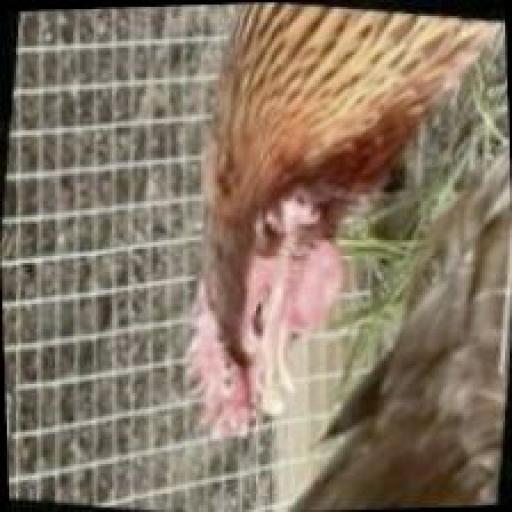disease: (180, 218, 327, 438)
